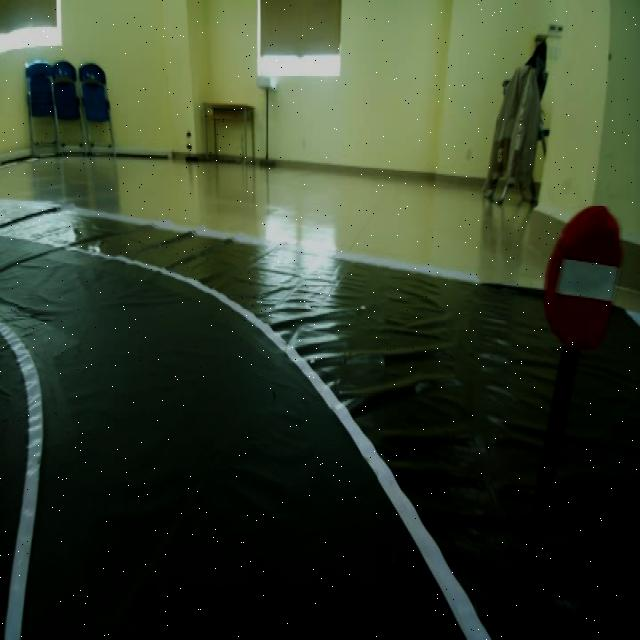no_entry: (552, 192, 622, 348)
